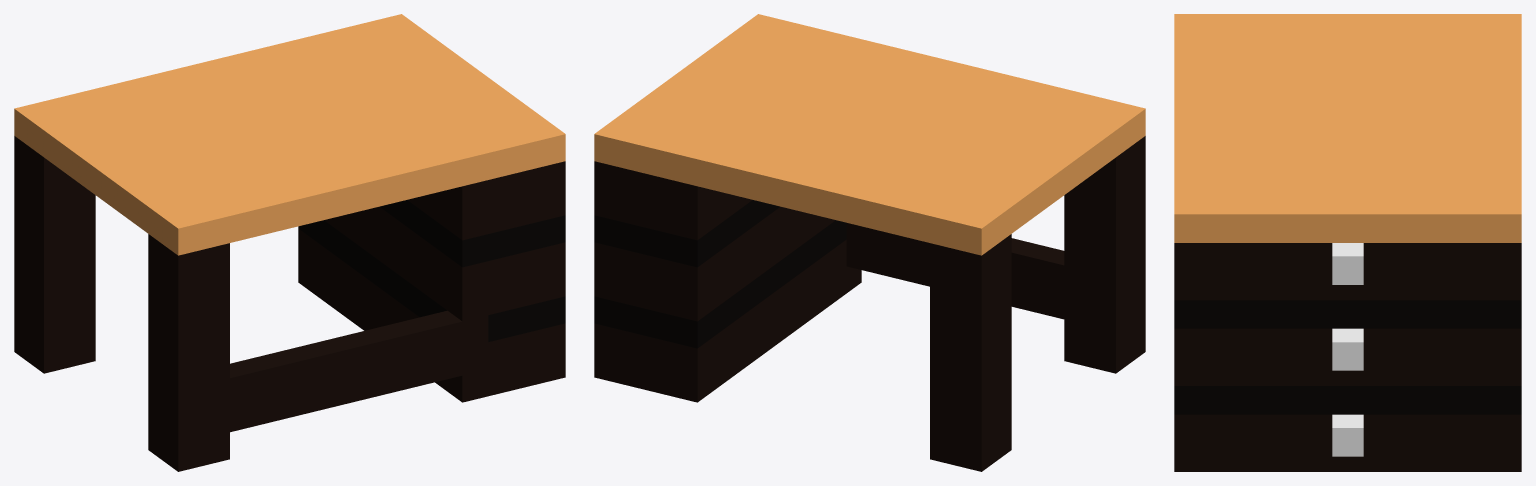
Rendered from desk.fbx.
The picture shows the model from 3 angles, left to right: view 1: azimuth 30°, elevation 25°; view 2: azimuth 150°, elevation 25°; view 3: azimuth 270°, elevation 25°; orthographic projection. The views are drawn at different scales.
Parts seen in each view (by area): view 1: VoxelMesh; view 2: VoxelMesh; view 3: VoxelMesh.
Boxes of the visible parts, x1,y1,x2,y2 form: VoxelMesh: [14, 14, 565, 471]; VoxelMesh: [594, 14, 1145, 471]; VoxelMesh: [1174, 14, 1521, 471].
Size of the model in its own units: 16 by 9 by 11.
